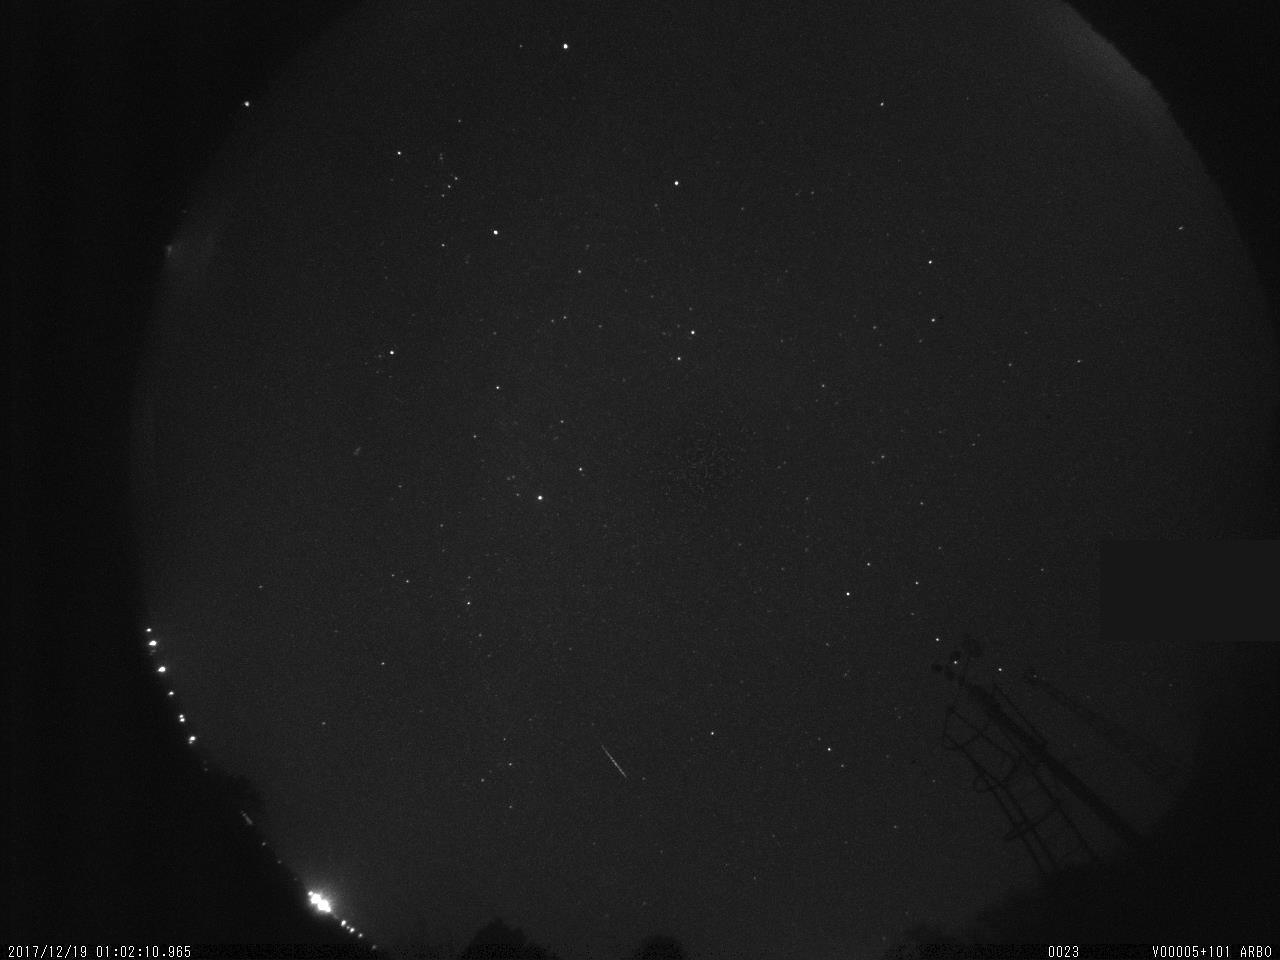meteor: (590, 730, 635, 790)
